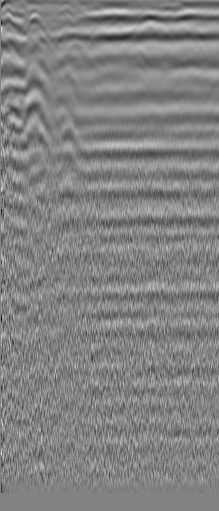오수: (18, 10, 50, 40)
우수: (156, 51, 176, 71)
